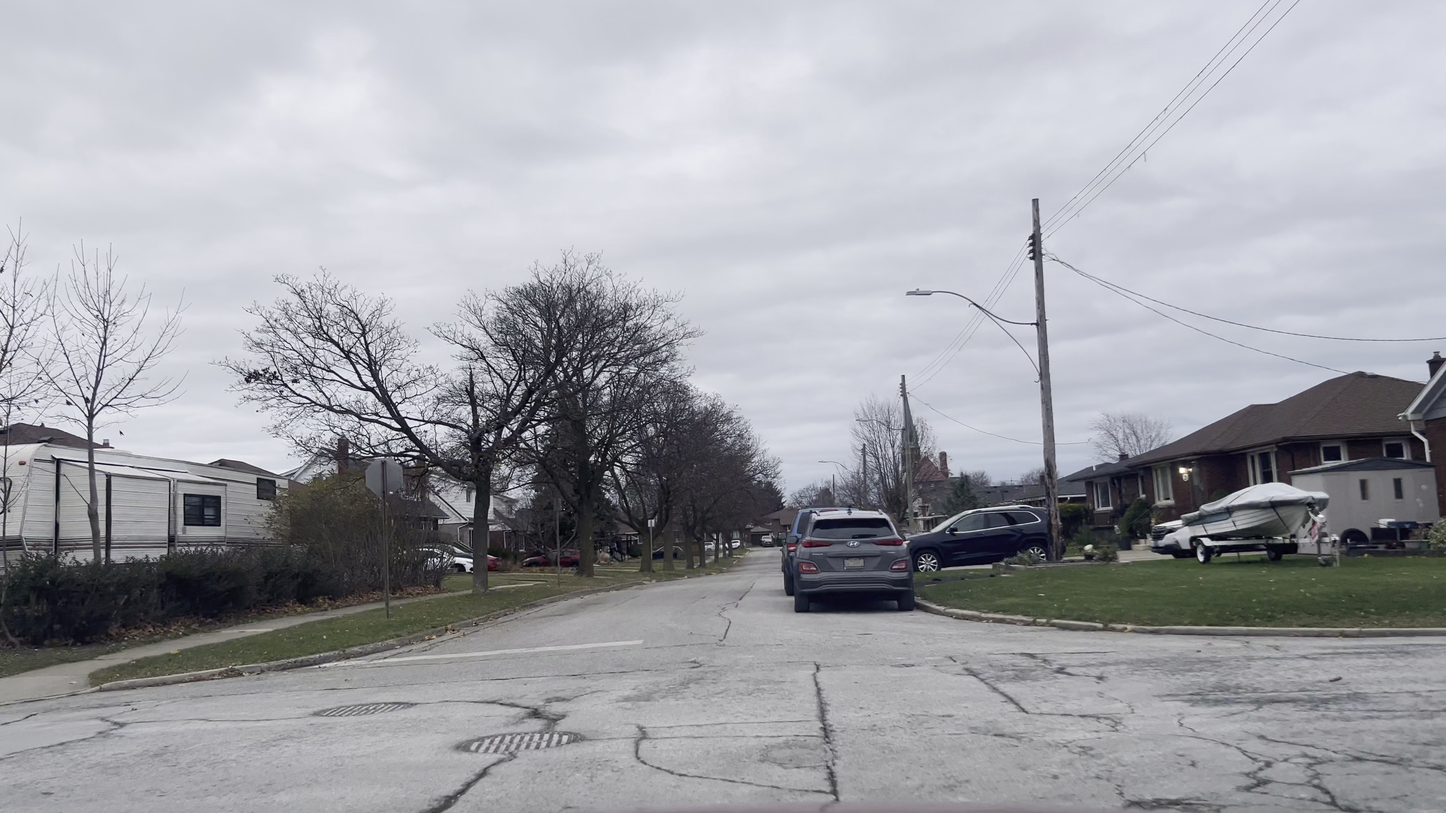cracks: (1182, 727, 1350, 807), (797, 657, 859, 795), (419, 757, 509, 813), (950, 663, 1030, 720)
